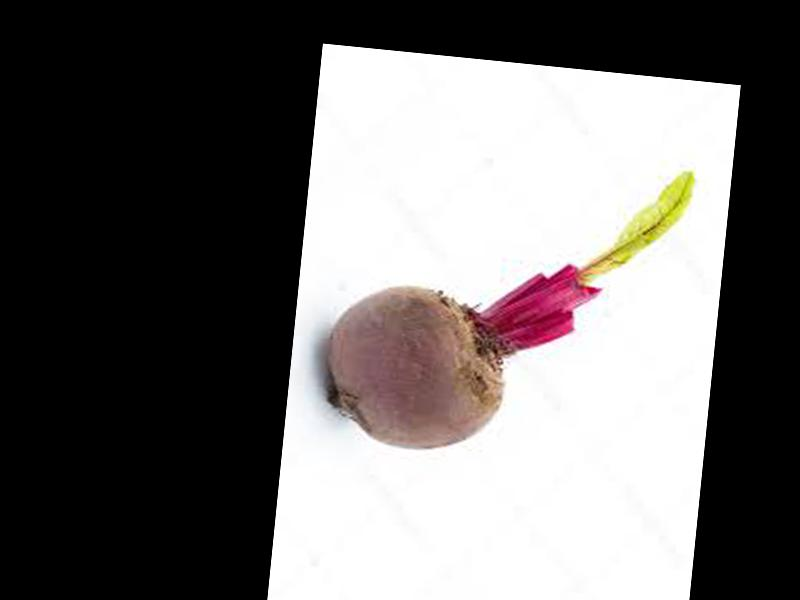Beet: (319, 140, 694, 475)
